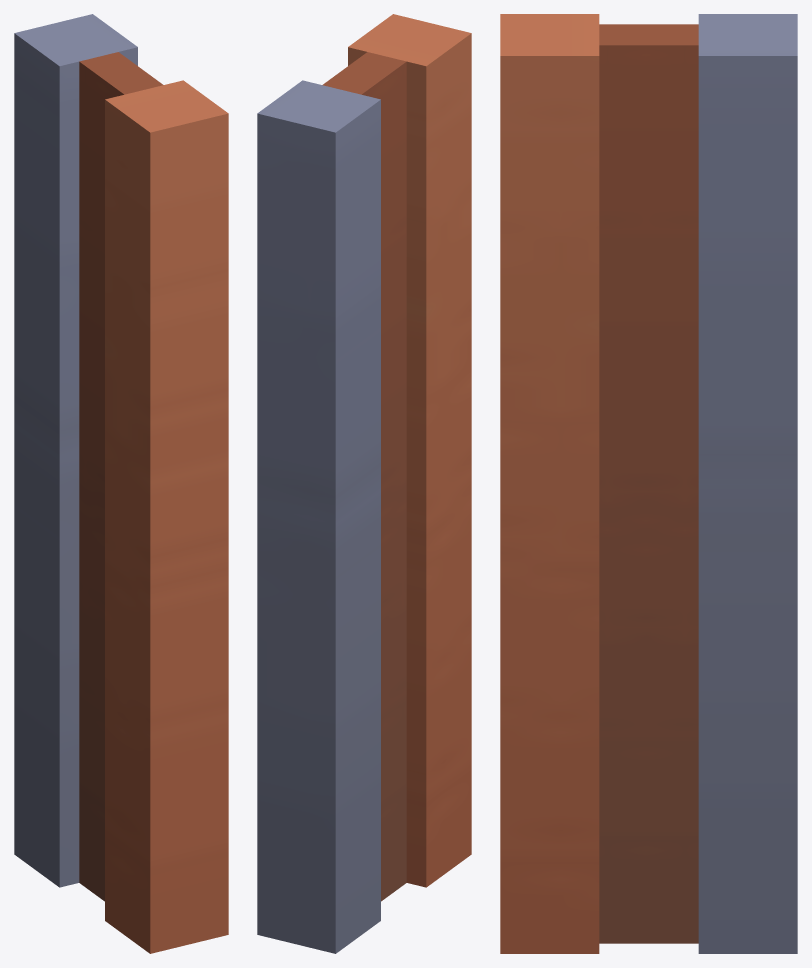
File: wallWoodArch.fbx
The picture shows the model from 3 angles, left to right: view 1: azimuth 30°, elevation 25°; view 2: azimuth 150°, elevation 25°; view 3: azimuth 270°, elevation 25°; orthographic projection. The views are drawn at different scales.
Visible parts, largest first — view 1: wallWoodArch; view 2: wallWoodArch; view 3: wallWoodArch.
Boxes of the visible parts, bbox=[...] form: wallWoodArch: bbox=[14, 14, 228, 953]; wallWoodArch: bbox=[257, 14, 471, 953]; wallWoodArch: bbox=[500, 14, 797, 953].
Bounding box in the file's own units: 0.1 × 0.3 × 1.
